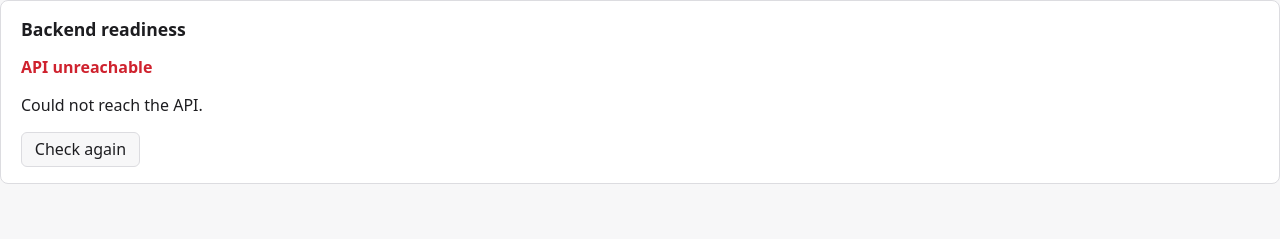
Test: ReadinessStatus › shows a network error when the request fails, and recovers on retry
This screenshot has width=1280, height=239.
Expected: the text "API unreachable" is shown, [21,56,152,78]
Click the button "Check again" at (80, 149), box [21,132,140,167]
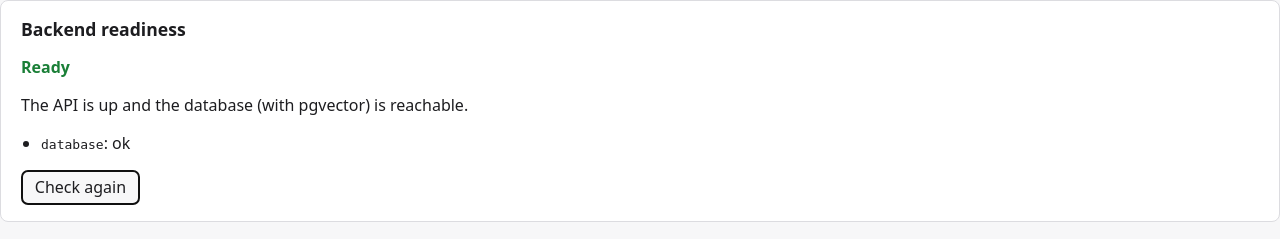
Now the text "Ready" is shown, box [21,56,70,78]
